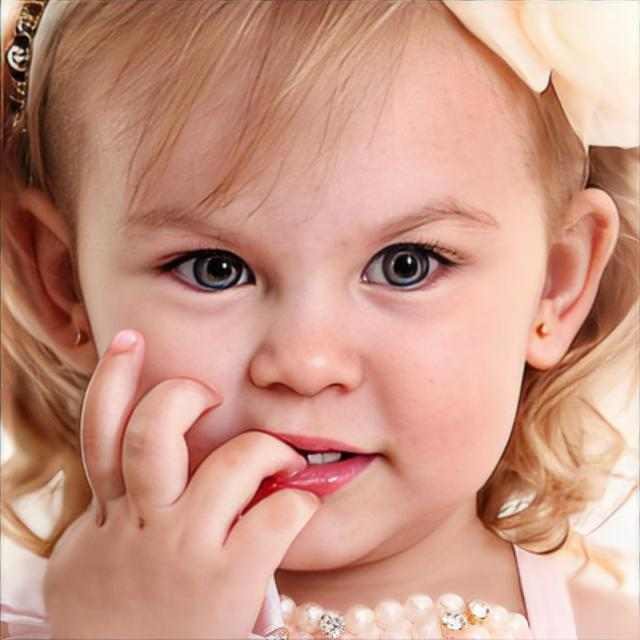neutral: (78, 0, 550, 574)
